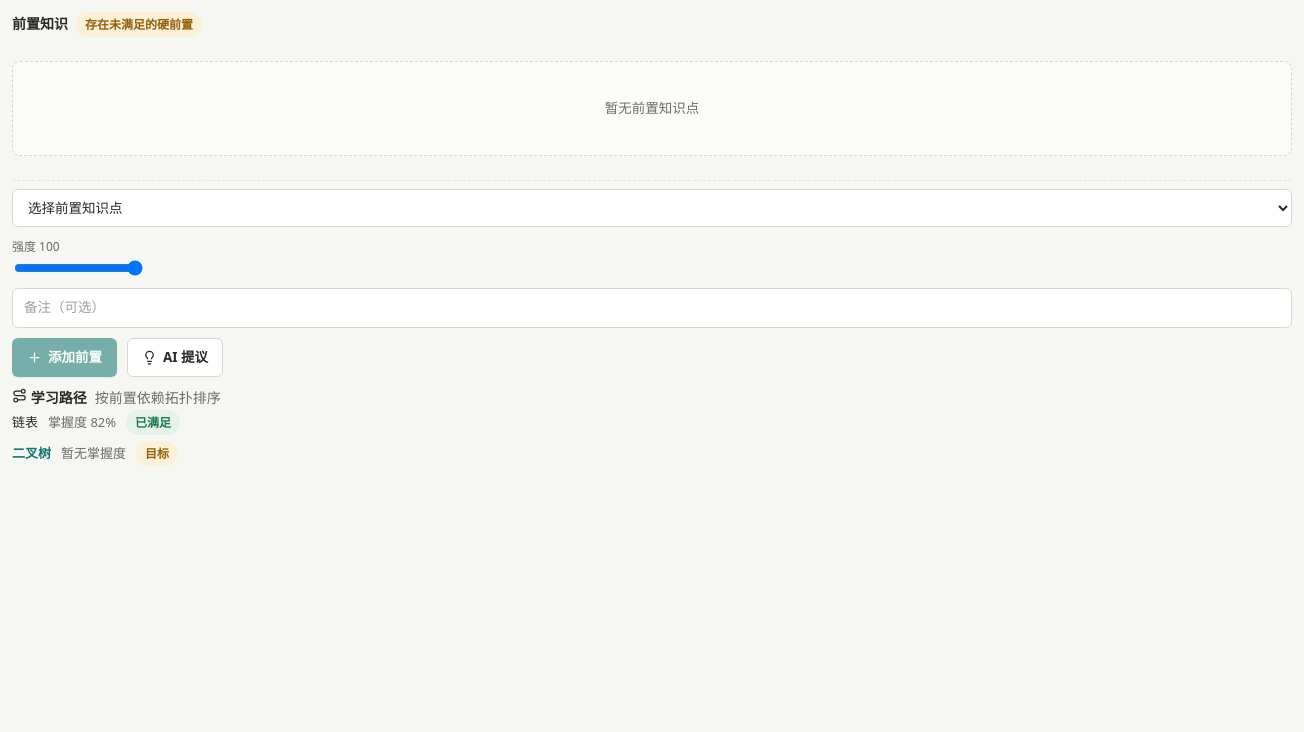
PrerequisiteEditor › 添加成环时展示后端中文错误
Select "二叉树（数据结构）" in the dropdown at (652, 208), box x1=12 y1=189 x2=1292 y2=227
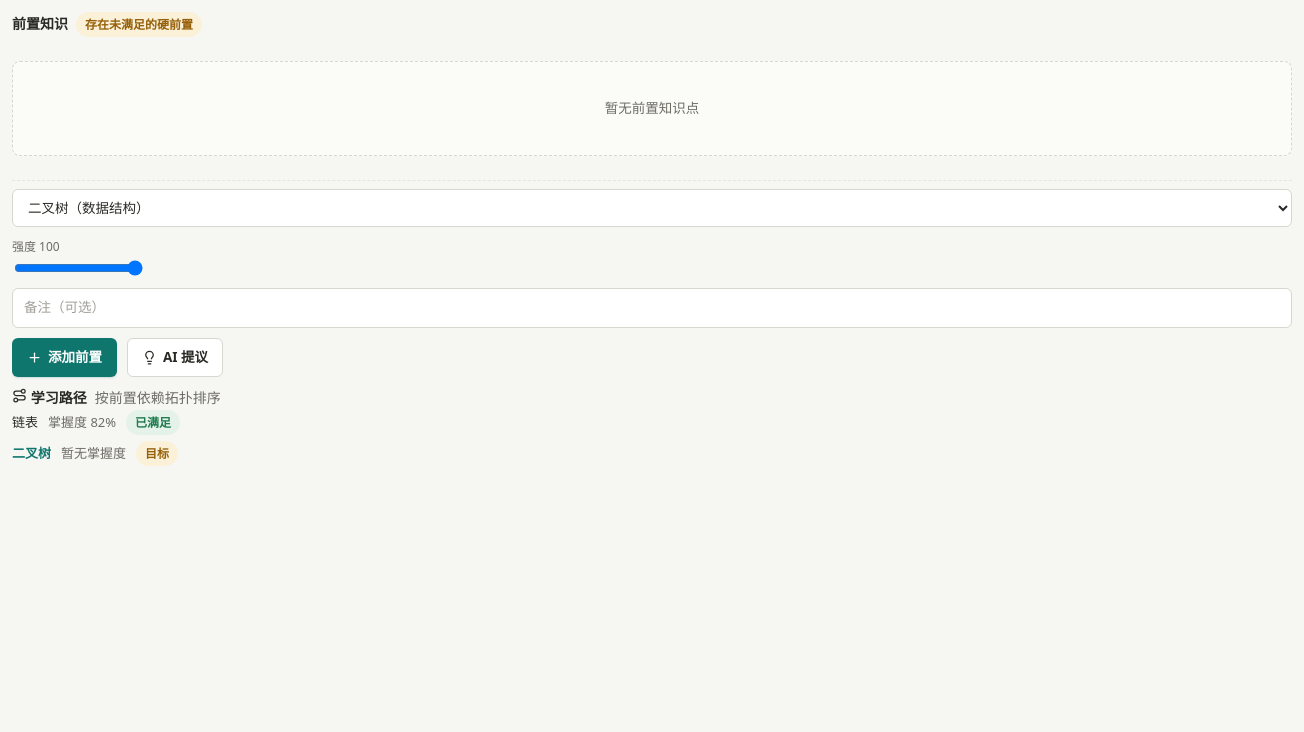
Click the button "添加前置" at (64, 357), box x1=12 y1=338 x2=117 y2=377
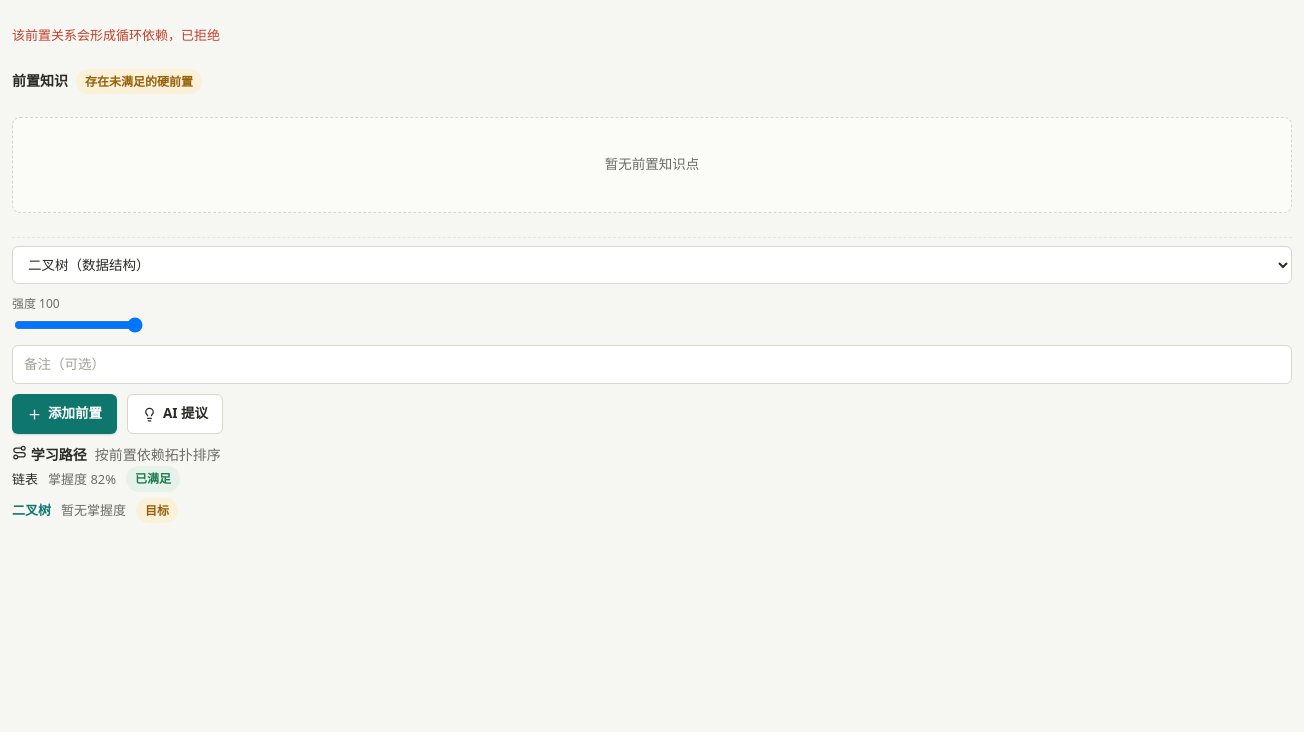
Check: the text "该前置关系会形成循环依赖，已拒绝" is shown, box x1=12 y1=26 x2=220 y2=44
